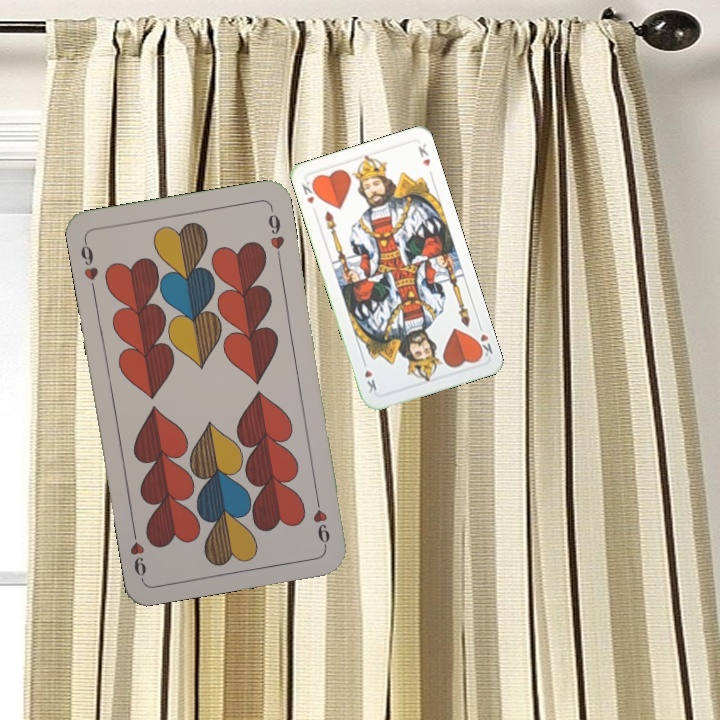H9: (76, 235, 101, 294), (309, 491, 333, 549)
HK: (471, 319, 495, 360), (298, 177, 317, 207)
